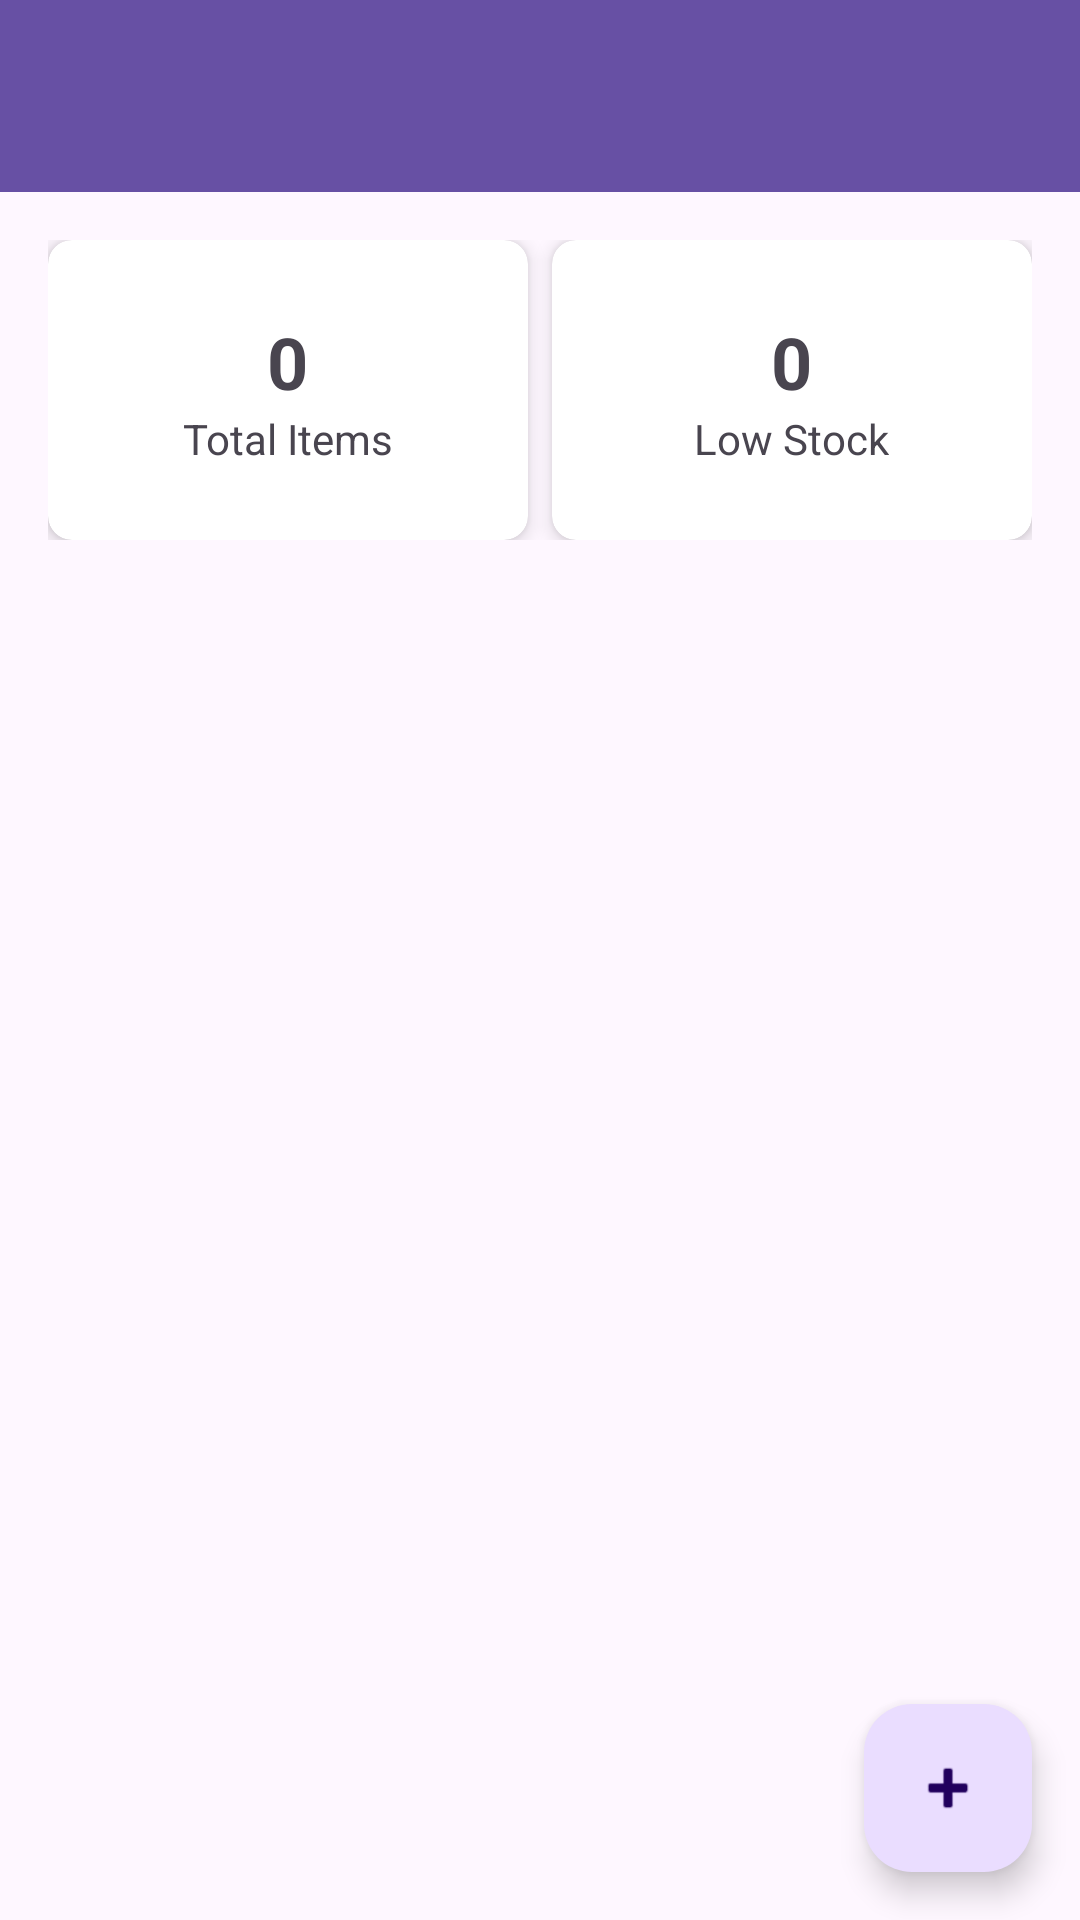

Named icons in this screenshot (1080px x 1920px) and their centers, (x,y):
Add item: (948,1788)
